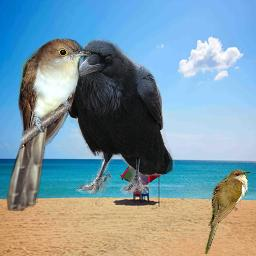Crow: (65, 38, 175, 194)
Cuckoo: (7, 37, 91, 211), (204, 169, 250, 255)
